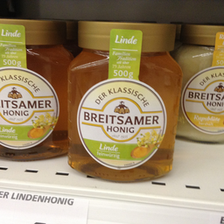honey: (64, 17, 185, 187)
